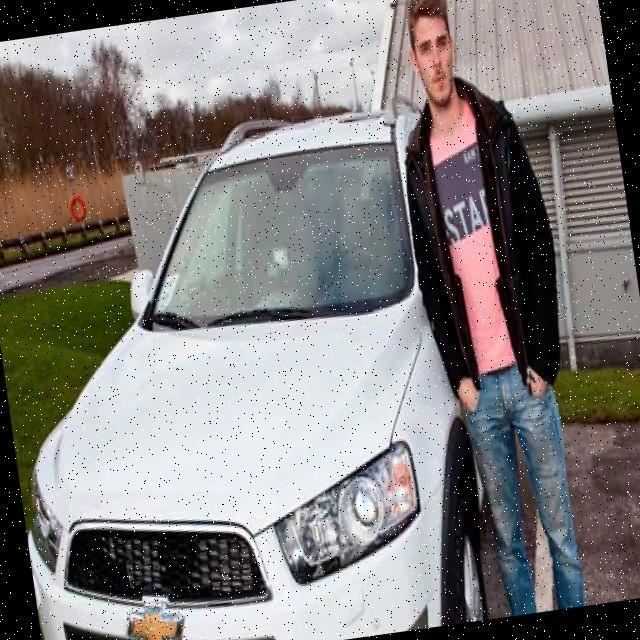Chevrolet: (122, 591, 189, 640)
